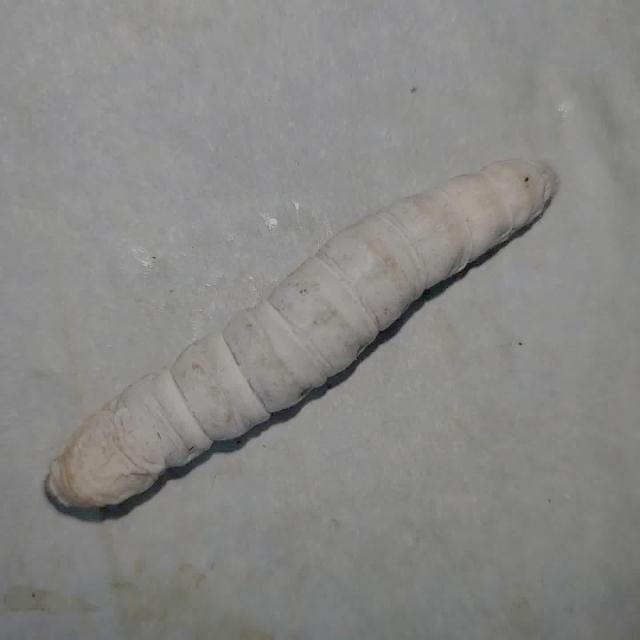Grasserie: (36, 144, 566, 530)
